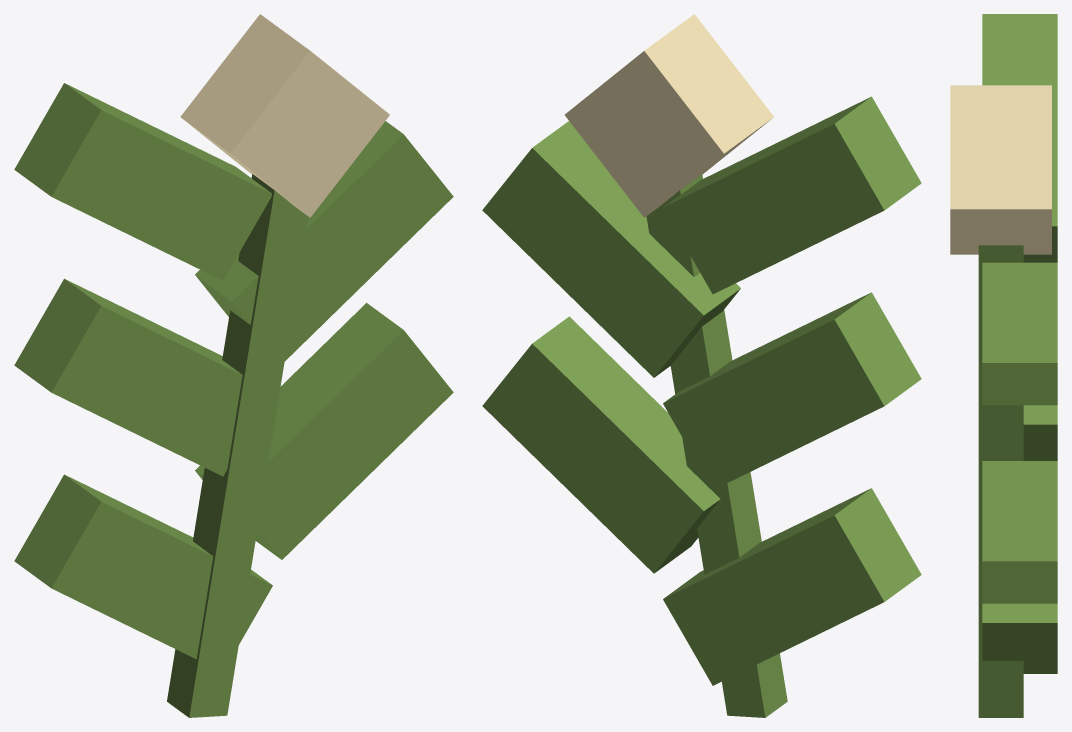
The model's file is herb.glb.
The picture shows the model from 3 angles, left to right: view 1: azimuth 30°, elevation 25°; view 2: azimuth 150°, elevation 25°; view 3: azimuth 270°, elevation 25°; orthographic projection.
Parts seen in each view (by area): view 1: herb; view 2: herb; view 3: herb.
Boxes of the visible parts, x1,y1,x2,y2 form: herb: [14, 14, 453, 717]; herb: [482, 14, 921, 717]; herb: [950, 14, 1057, 717].
Size of the model in its own units: 1.25 by 1.95 by 0.285.
